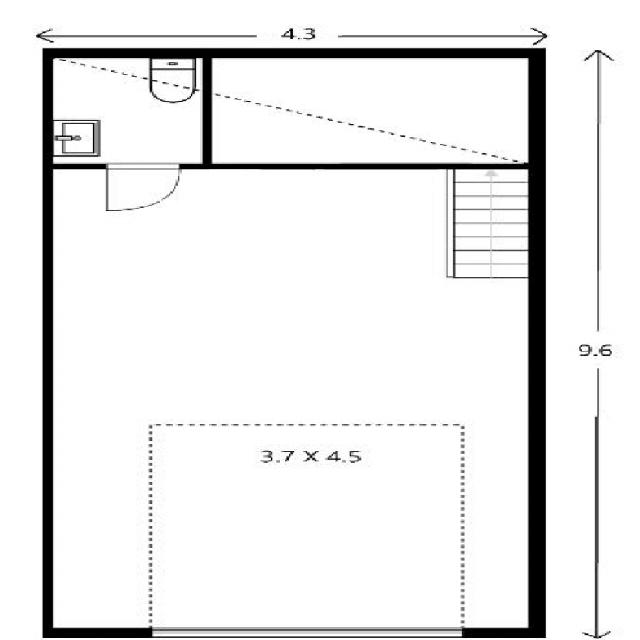door: (107, 163, 179, 210)
